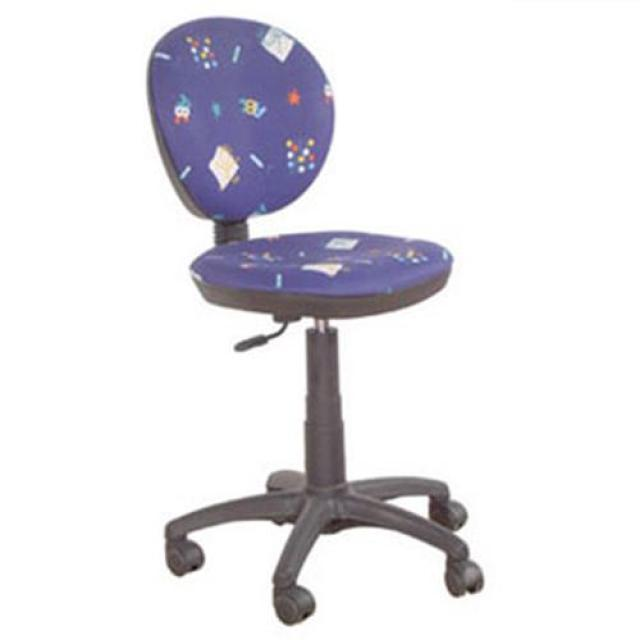swivelchair: (164, 230, 484, 628), (146, 47, 337, 228)
